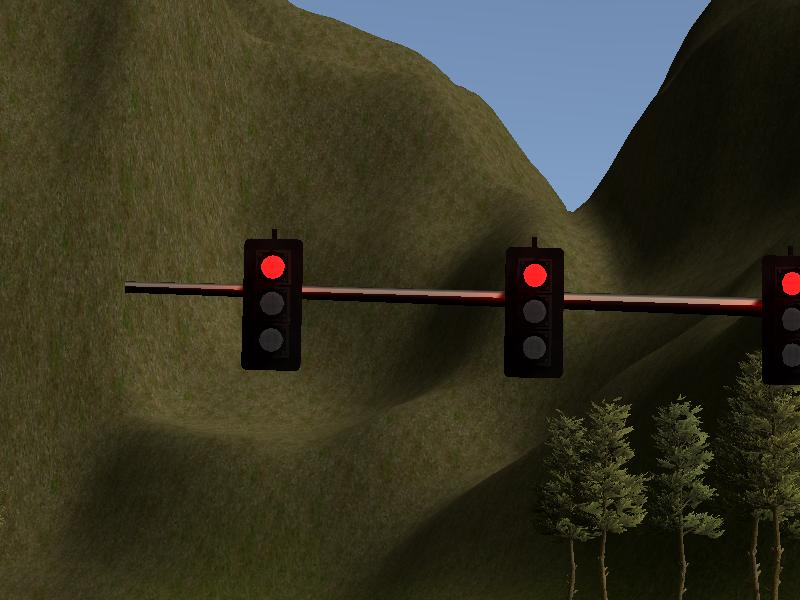Red: (506, 248, 564, 378), (244, 240, 299, 368), (762, 256, 800, 382)
